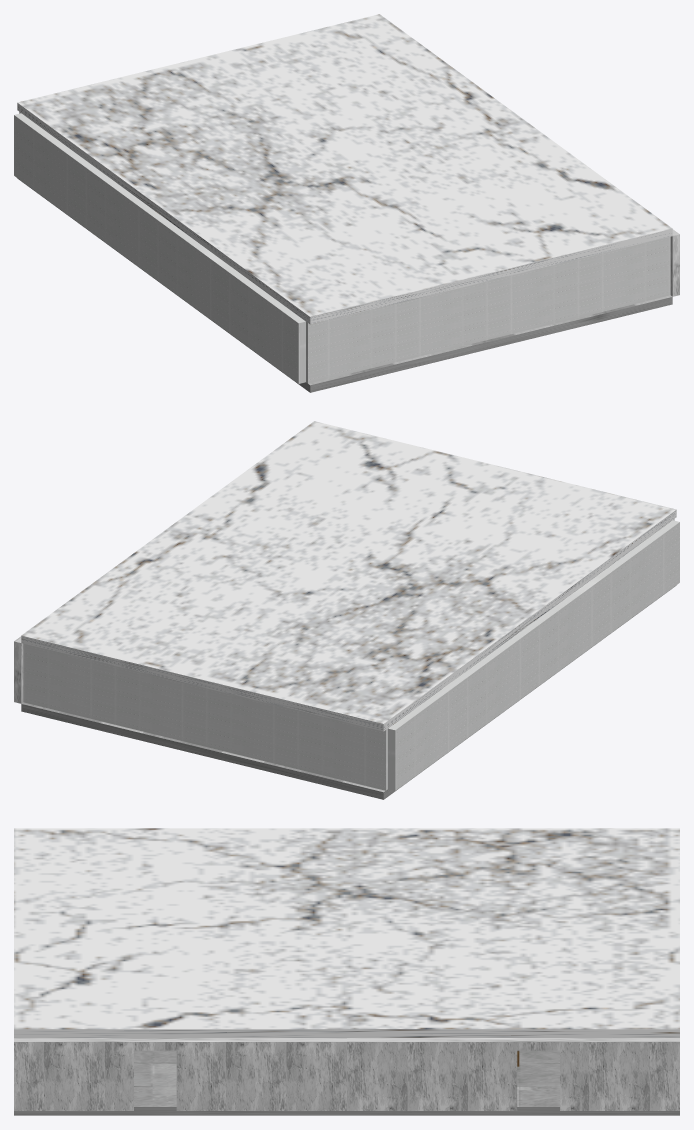
File: BATHROOM.fbx
The picture shows the model from 3 angles, top to bottom: view 1: azimuth 30°, elevation 25°; view 2: azimuth 150°, elevation 25°; view 3: azimuth 270°, elevation 25°; orthographic projection. The views are drawn at different scales.
Visible parts, largest first — view 1: roof-col.028, back_wall1-col.002, back_wall1-col.003, floor-col.007, wall-col.002; view 2: roof-col.028, back_wall1-col.040, back_wall1-col.003, floor-col.007, wall-col.003; view 3: roof-col.028, wall-col.002, wall-col.003, floor-col.007.
Boxes of the visible parts, x1=… form: roof-col.028: x1=17, y1=14, x2=672, y2=324; back_wall1-col.002: x1=306, y1=236, x2=670, y2=383; back_wall1-col.003: x1=14, y1=113, x2=305, y2=383; floor-col.007: x1=17, y1=159, x2=672, y2=392; wall-col.002: x1=670, y1=229, x2=679, y2=296; roof-col.028: x1=21, y1=421, x2=676, y2=731; back_wall1-col.040: x1=23, y1=643, x2=387, y2=790; back_wall1-col.003: x1=388, y1=520, x2=679, y2=790; floor-col.007: x1=21, y1=585, x2=676, y2=799; wall-col.003: x1=14, y1=636, x2=23, y2=703; roof-col.028: x1=14, y1=828, x2=679, y2=1037; wall-col.002: x1=14, y1=1038, x2=346, y2=1110; wall-col.003: x1=347, y1=1038, x2=679, y2=1110; floor-col.007: x1=14, y1=1050, x2=679, y2=1115.
Bounding box in the file's own units: 52.02 × 70 × 10.
8 materials, 7 textured.
